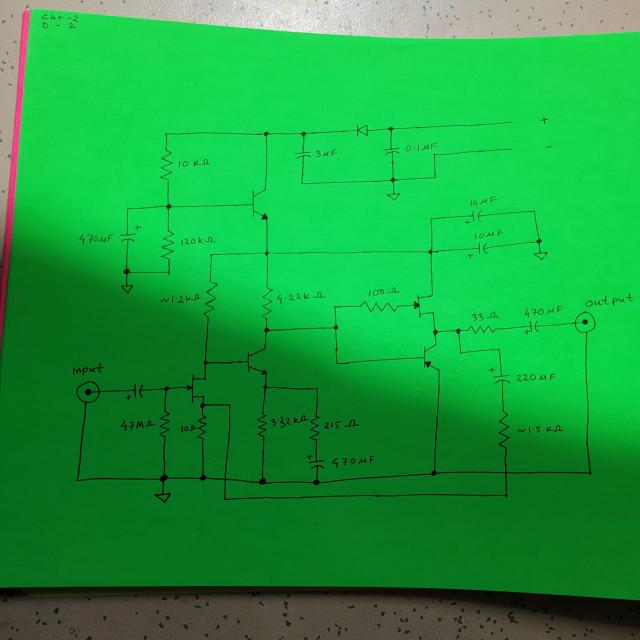capacitor: (116, 223, 141, 245), (488, 365, 512, 386), (124, 382, 146, 401), (467, 241, 489, 259), (306, 454, 326, 469), (465, 209, 483, 225), (522, 320, 540, 336), (382, 145, 402, 157), (294, 151, 312, 159)
crossover: (501, 468, 509, 476), (222, 476, 228, 482)
diode: (354, 122, 368, 138)
ground: (154, 492, 172, 504), (531, 250, 548, 261), (386, 191, 400, 201), (120, 284, 134, 294)
junction: (158, 472, 169, 482), (311, 477, 321, 486), (164, 201, 173, 211), (122, 266, 131, 276), (429, 468, 438, 477), (198, 473, 207, 482), (585, 468, 594, 477), (257, 477, 267, 485), (262, 130, 270, 138), (262, 248, 270, 256), (162, 384, 170, 392), (162, 130, 170, 138), (534, 237, 542, 245), (74, 476, 82, 484), (332, 322, 339, 331), (300, 130, 308, 137), (263, 326, 270, 334), (388, 176, 396, 183), (333, 359, 340, 367), (387, 125, 394, 132), (502, 491, 509, 498), (124, 205, 131, 212), (332, 303, 338, 310), (221, 496, 228, 502), (427, 248, 434, 254), (199, 402, 206, 408), (432, 329, 438, 335), (202, 359, 208, 365), (531, 208, 537, 214), (208, 251, 214, 257), (166, 270, 172, 276), (314, 386, 320, 392), (457, 349, 463, 355), (455, 328, 461, 333), (262, 384, 268, 389), (226, 402, 232, 407), (299, 180, 305, 185), (496, 346, 501, 352), (428, 216, 434, 221), (432, 174, 437, 179), (432, 152, 436, 157)
resistor: (202, 278, 218, 318), (496, 410, 511, 450), (358, 299, 399, 313), (158, 148, 174, 183), (160, 228, 175, 262), (260, 286, 275, 320), (157, 410, 170, 438), (194, 414, 207, 440), (466, 324, 496, 335), (308, 415, 320, 442), (256, 413, 267, 438)
terminal: (74, 381, 102, 404), (574, 310, 596, 333), (508, 120, 514, 126), (510, 147, 515, 151)
text: (584, 292, 634, 307), (276, 291, 326, 304), (330, 454, 376, 468), (514, 370, 556, 385), (516, 423, 566, 435), (523, 304, 564, 318), (270, 414, 309, 428), (70, 361, 105, 376), (160, 292, 202, 304), (120, 418, 156, 432), (78, 232, 113, 245), (323, 418, 359, 430), (176, 157, 211, 168), (179, 235, 215, 245), (469, 195, 498, 207), (404, 142, 438, 152), (366, 286, 399, 296), (471, 311, 499, 321), (473, 229, 502, 238), (314, 148, 337, 158), (180, 424, 198, 433), (539, 116, 548, 125), (543, 144, 553, 149)
transistor: (249, 187, 275, 222), (243, 346, 269, 376), (184, 373, 208, 405), (412, 292, 437, 320), (418, 345, 442, 370)
